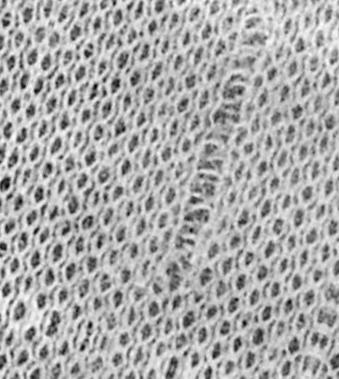slub: (160, 20, 279, 301)
